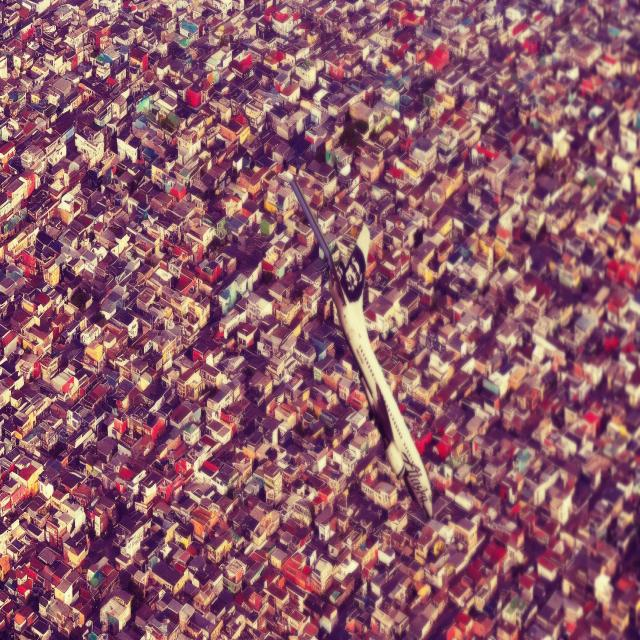airplane: (288, 174, 433, 519)
